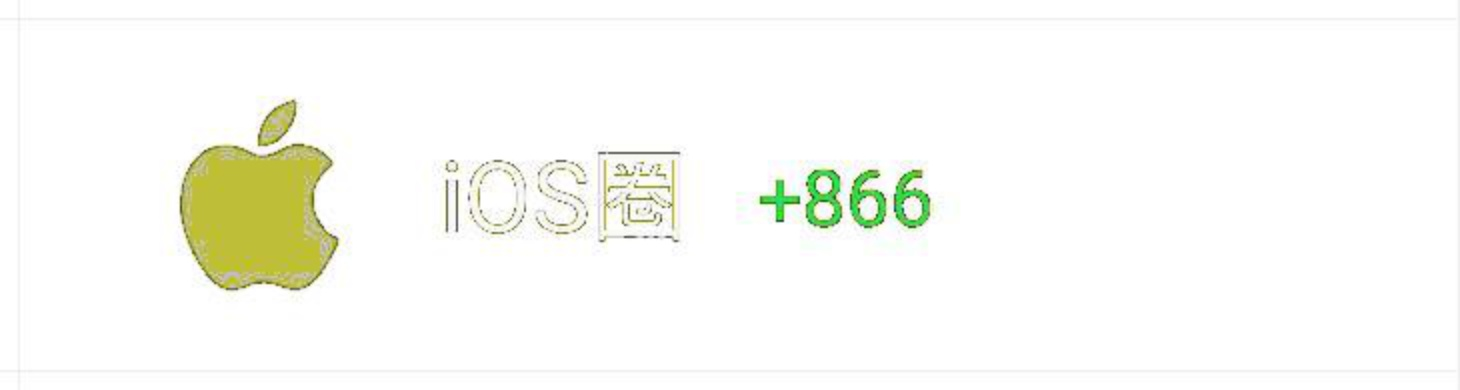CheckedTextView: (1, 1, 1459, 389)
